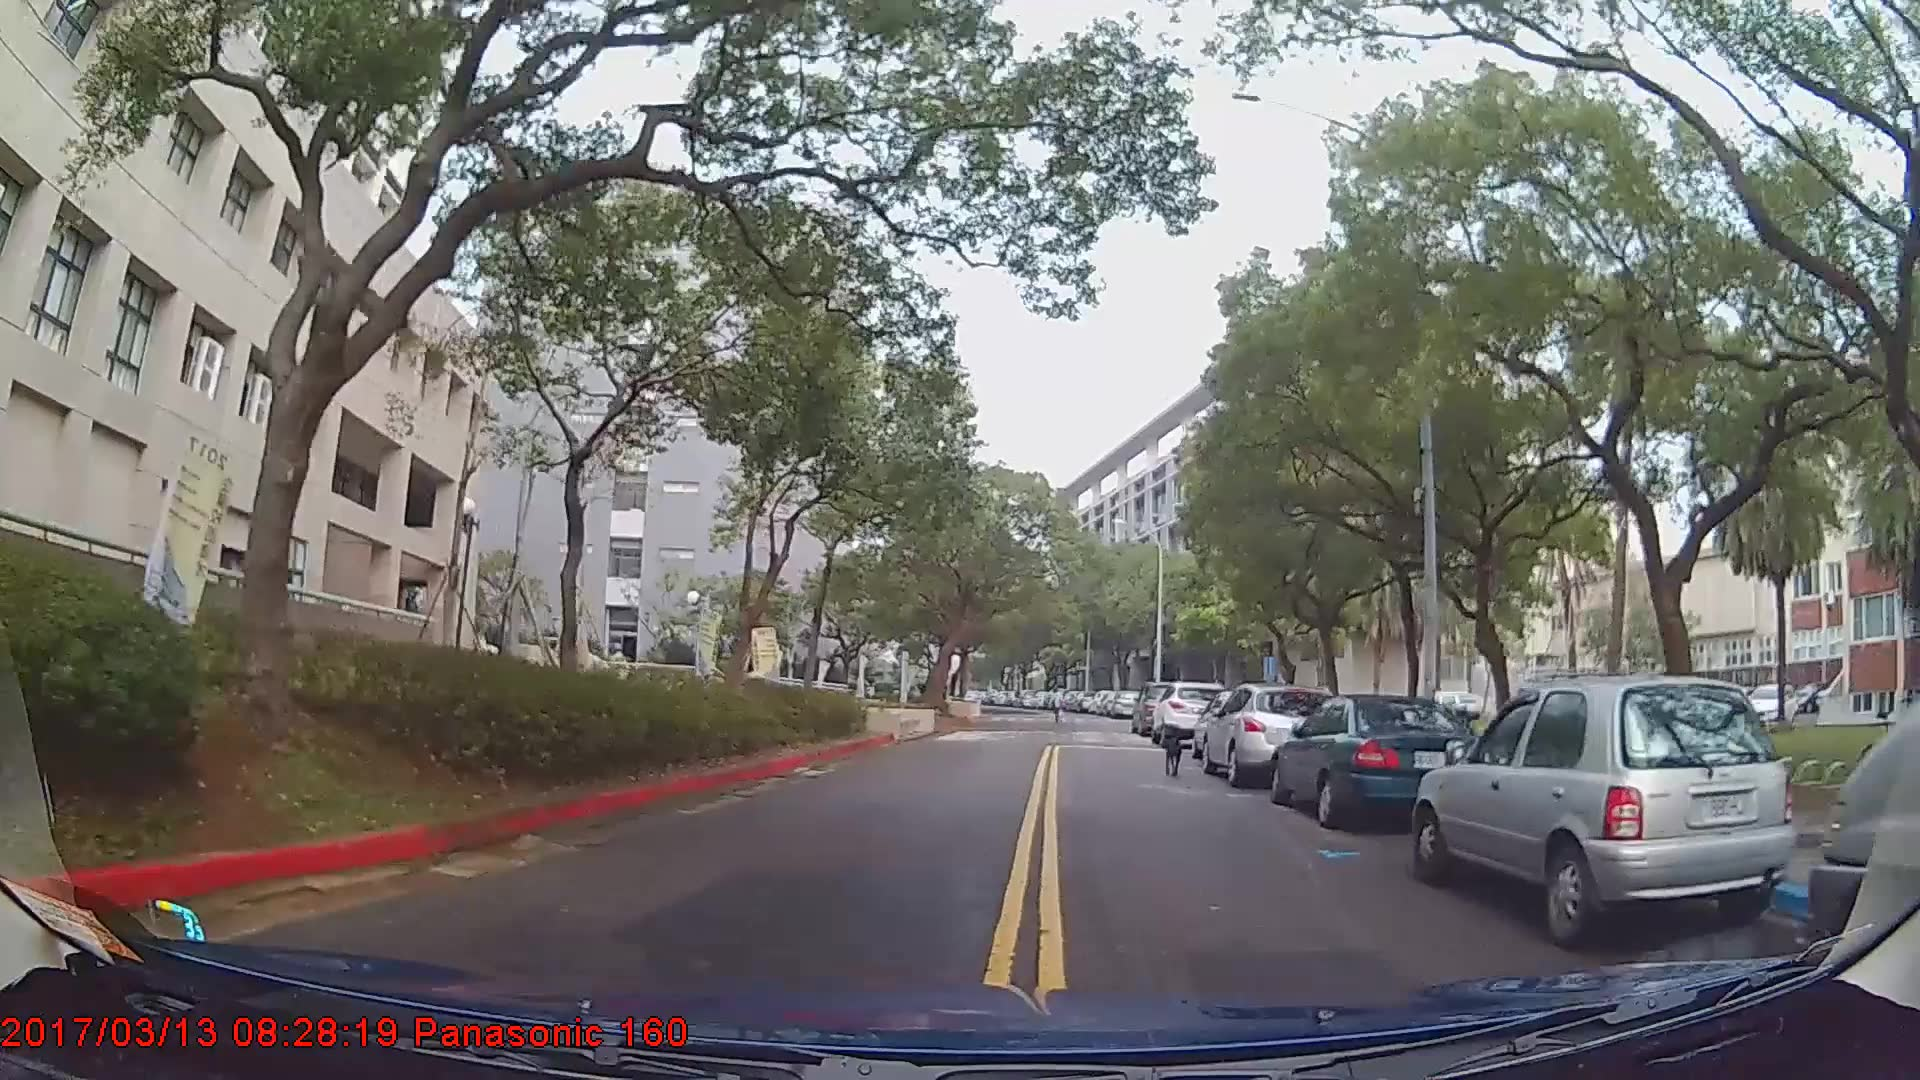pedestrian: (1049, 688, 1069, 726)
vehicle: (1414, 672, 1797, 940), (1270, 693, 1496, 834), (1199, 681, 1338, 786), (1151, 681, 1230, 748), (1108, 688, 1142, 720)
